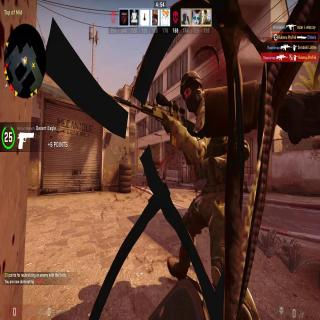CT-Body: (157, 72, 245, 280)
CT-Head: (178, 72, 200, 104)
